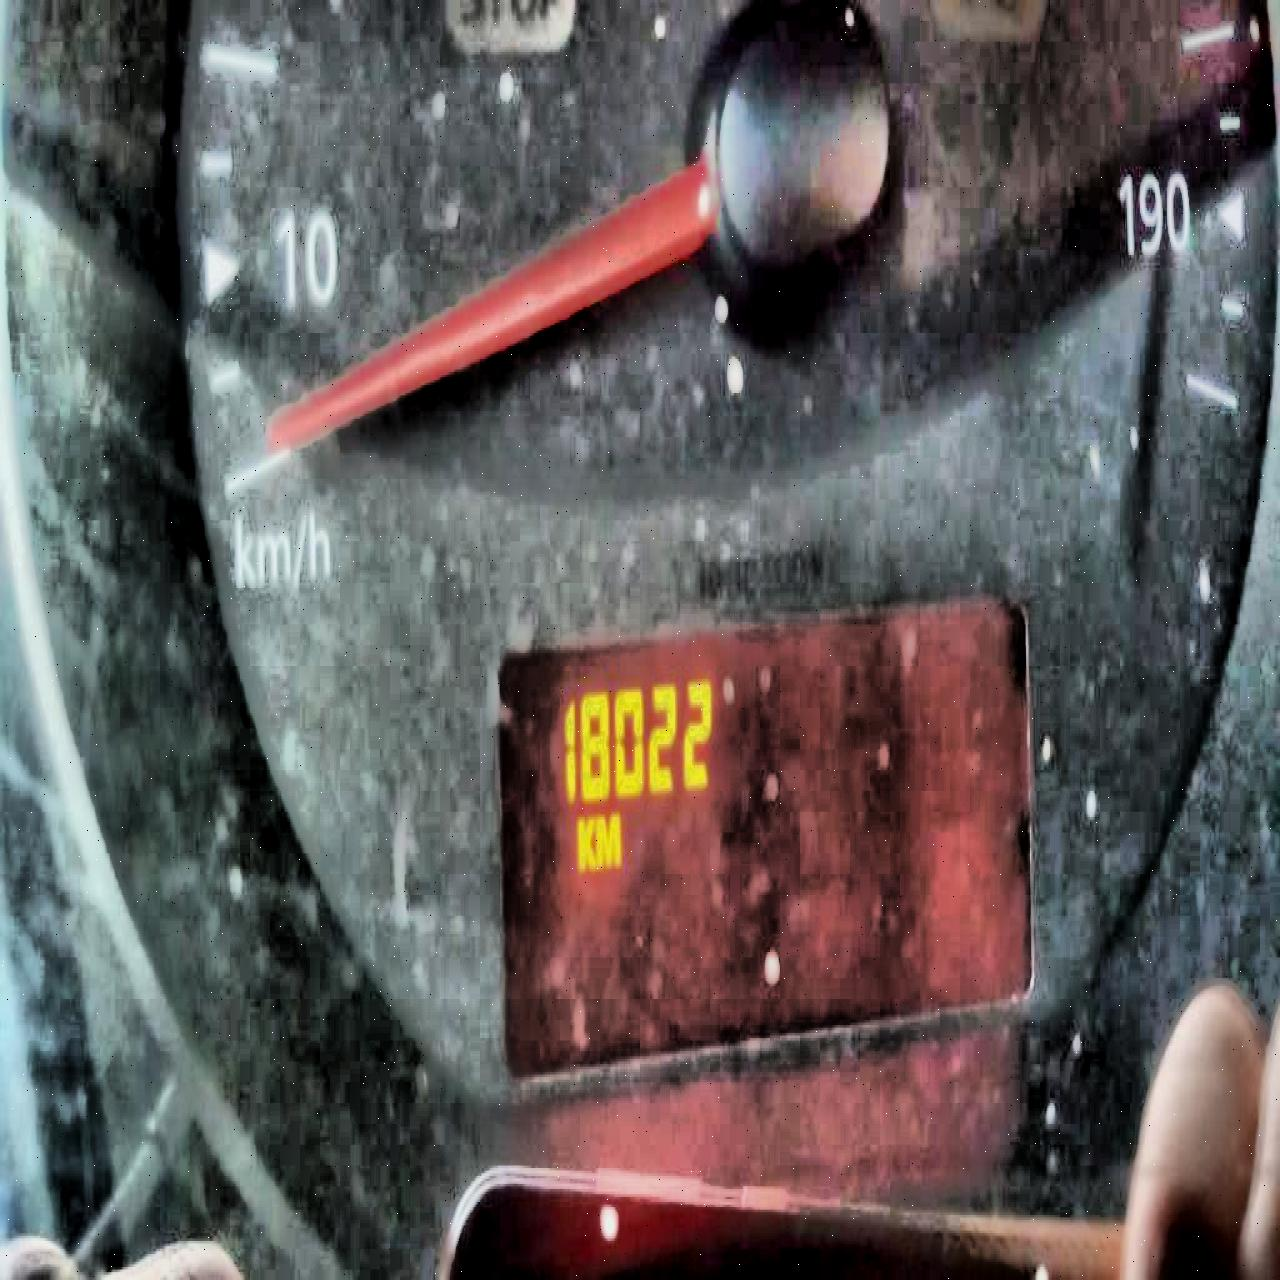0: (611, 676, 645, 802)
1: (557, 687, 578, 812)
2: (682, 672, 717, 794), (648, 674, 680, 799)
8: (578, 687, 611, 802)
X: (597, 809, 622, 872), (576, 809, 595, 874)
odometer: (495, 587, 1040, 1088)
